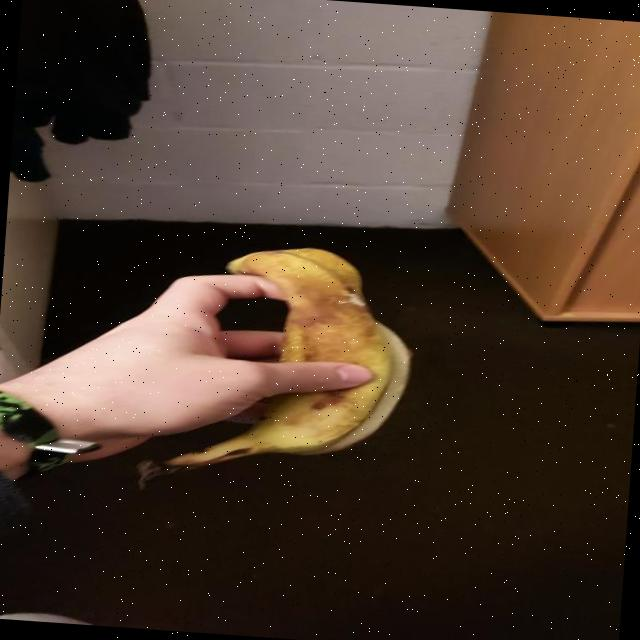banana-peel: (132, 233, 419, 507)
